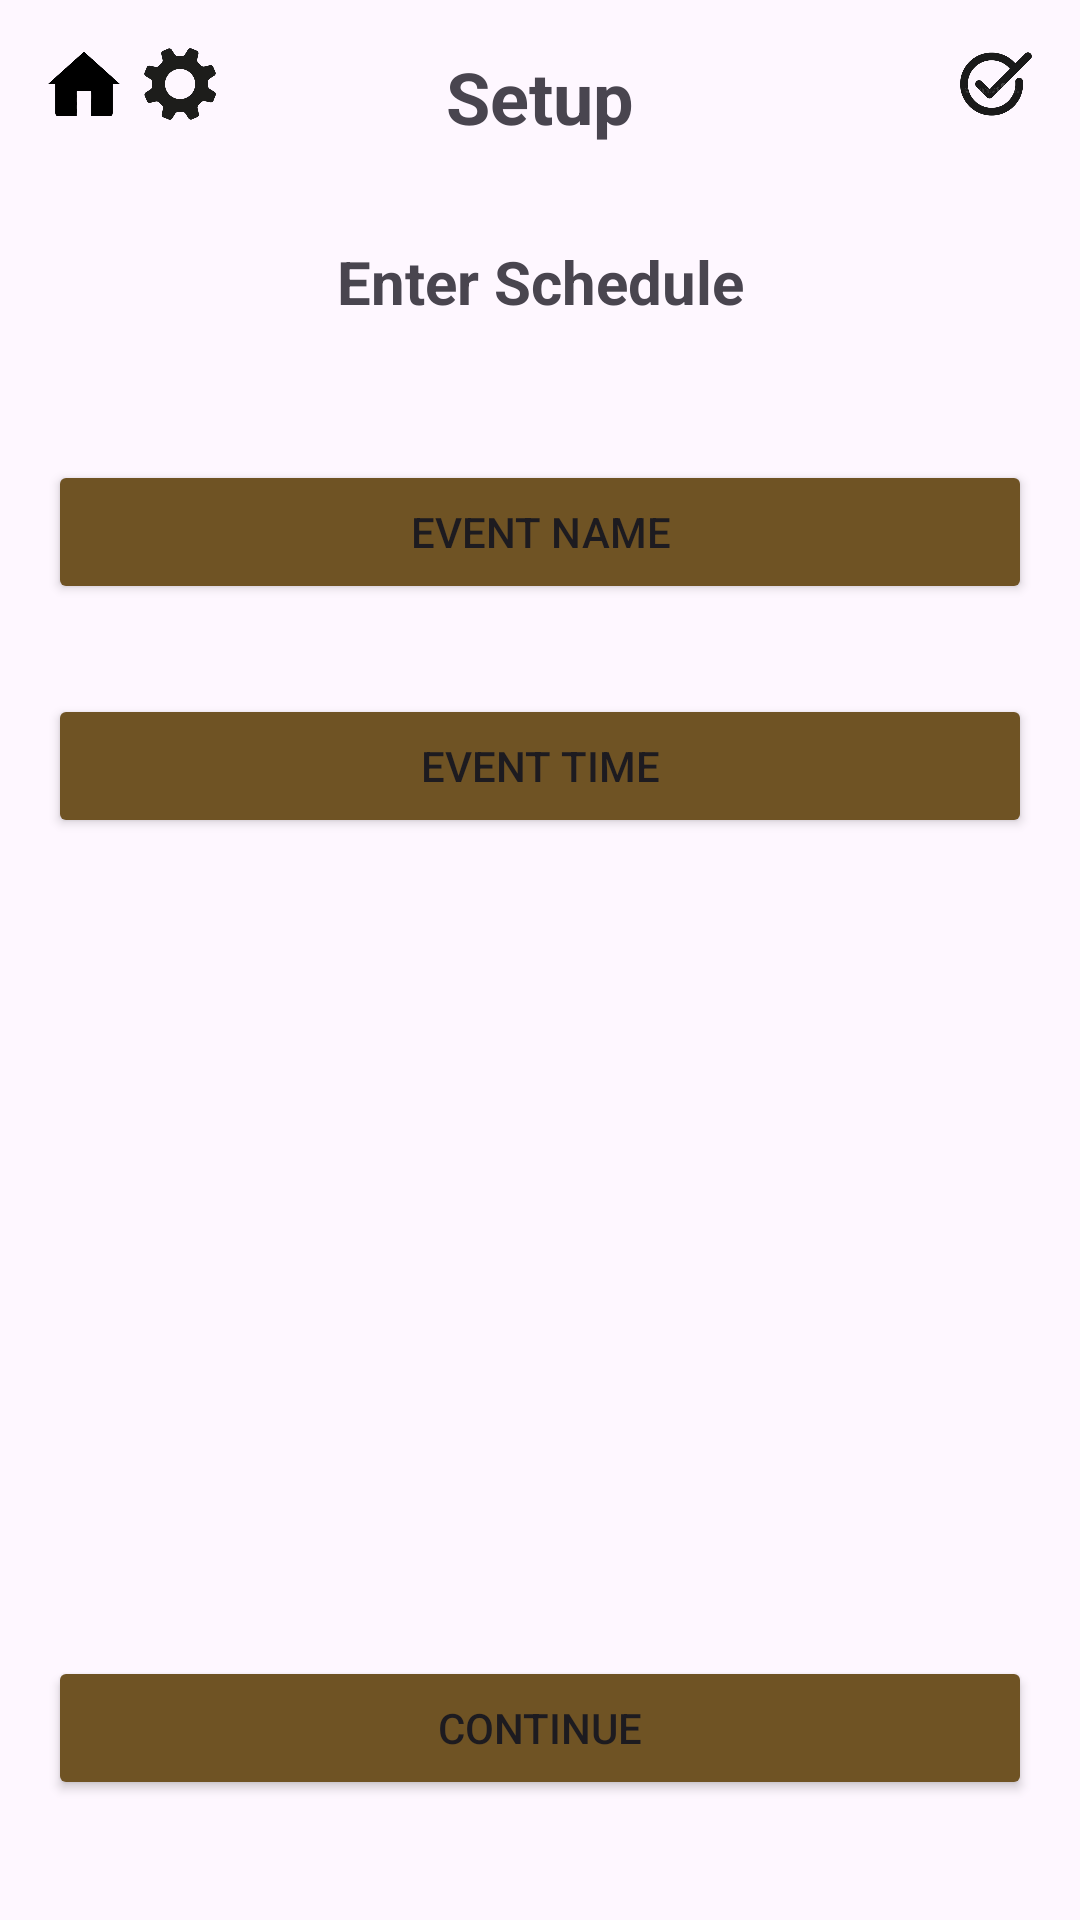

Icon bounding boxes for this 1080x1920 phone screenshot, format BBox(x1, y1, x2, y2):
Home button: BBox(48, 52, 120, 116)
Settings Button: BBox(144, 48, 216, 120)
Tasks button: BBox(960, 52, 1032, 116)
